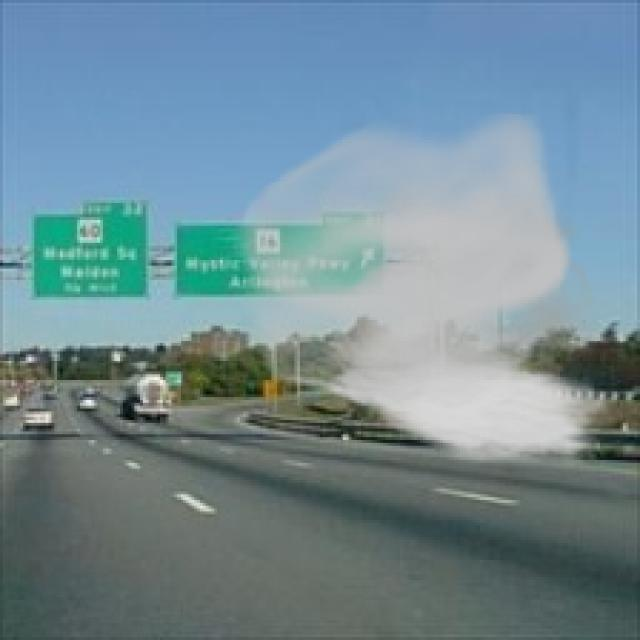smoke: (223, 111, 617, 468)
